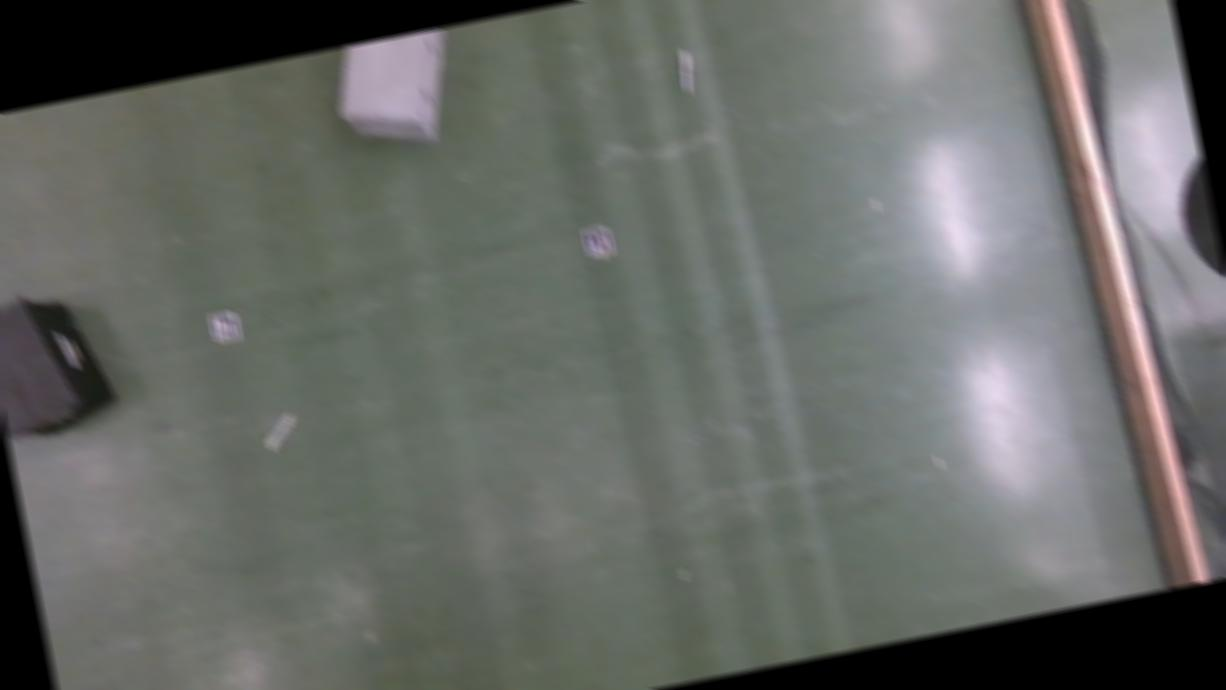probes: (261, 411, 301, 452), (675, 48, 697, 95)
rako: (0, 282, 119, 444), (326, 26, 462, 160)
